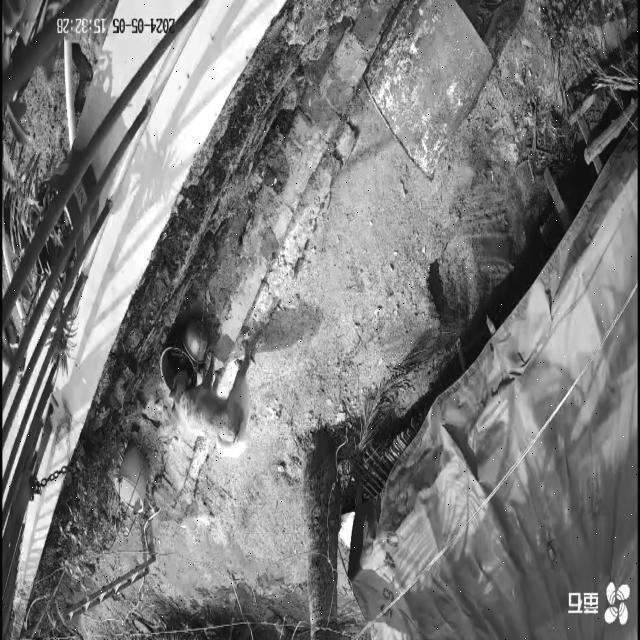dog: (170, 343, 257, 461)
